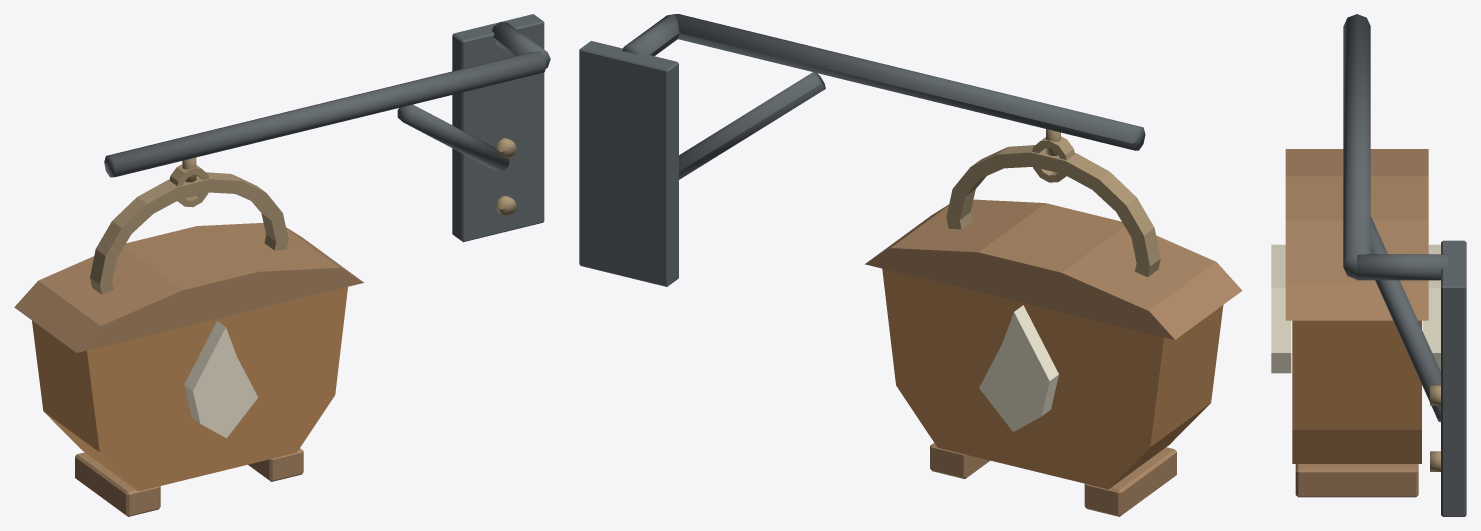
Rendered from yokocho-traveler-pot-sign.glb.
The picture shows the model from 3 angles, left to right: view 1: azimuth 30°, elevation 25°; view 2: azimuth 150°, elevation 25°; view 3: azimuth 270°, elevation 25°; orthographic projection. The views are drawn at different scales.
Parts seen in each view (by area): view 1: Shops/S03/ProjectingSigns/TravelerPotAssembly__Food_Copper, Shops/S03/ProjectingSigns/TravelerPotAssembly__Iron, Shops/S03/ProjectingSigns/TravelerPotAssembly__Food_Chestnut, Shops/S03/ProjectingSigns/TravelerPotAssembly__Bronze, Shops/S03/ProjectingSigns/TravelerPotAssembly__Food_TileCrea; view 2: Shops/S03/ProjectingSigns/TravelerPotAssembly__Food_Copper, Shops/S03/ProjectingSigns/TravelerPotAssembly__Iron, Shops/S03/ProjectingSigns/TravelerPotAssembly__Food_Chestnut, Shops/S03/ProjectingSigns/TravelerPotAssembly__Bronze, Shops/S03/ProjectingSigns/TravelerPotAssembly__Food_TileCrea; view 3: Shops/S03/ProjectingSigns/TravelerPotAssembly__Food_Chestnut, Shops/S03/ProjectingSigns/TravelerPotAssembly__Iron, Shops/S03/ProjectingSigns/TravelerPotAssembly__Food_Copper, Shops/S03/ProjectingSigns/TravelerPotAssembly__Food_TileCrea, Shops/S03/ProjectingSigns/TravelerPotAssembly__Bronze.
Part boxes in pixels (x1,y1,x2,y2): Shops/S03/ProjectingSigns/TravelerPotAssembly__Food_Copper: [32, 287, 347, 491]; Shops/S03/ProjectingSigns/TravelerPotAssembly__Iron: [104, 14, 550, 242]; Shops/S03/ProjectingSigns/TravelerPotAssembly__Food_Chestnut: [14, 223, 363, 516]; Shops/S03/ProjectingSigns/TravelerPotAssembly__Bronze: [90, 138, 516, 294]; Shops/S03/ProjectingSigns/TravelerPotAssembly__Food_TileCrea: [184, 320, 258, 438]; Shops/S03/ProjectingSigns/TravelerPotAssembly__Food_Copper: [882, 268, 1223, 489]; Shops/S03/ProjectingSigns/TravelerPotAssembly__Iron: [579, 14, 1145, 286]; Shops/S03/ProjectingSigns/TravelerPotAssembly__Food_Chestnut: [865, 199, 1242, 516]; Shops/S03/ProjectingSigns/TravelerPotAssembly__Bronze: [946, 129, 1160, 277]; Shops/S03/ProjectingSigns/TravelerPotAssembly__Food_TileCrea: [979, 305, 1058, 431]; Shops/S03/ProjectingSigns/TravelerPotAssembly__Food_Chestnut: [1285, 149, 1428, 497]; Shops/S03/ProjectingSigns/TravelerPotAssembly__Iron: [1343, 14, 1466, 516]; Shops/S03/ProjectingSigns/TravelerPotAssembly__Food_Copper: [1292, 320, 1421, 463]; Shops/S03/ProjectingSigns/TravelerPotAssembly__Food_TileCrea: [1271, 244, 1440, 373]; Shops/S03/ProjectingSigns/TravelerPotAssembly__Bronze: [1430, 385, 1440, 471].
Bounding box in the file's own units: 0.779 × 0.4725 × 0.214.
